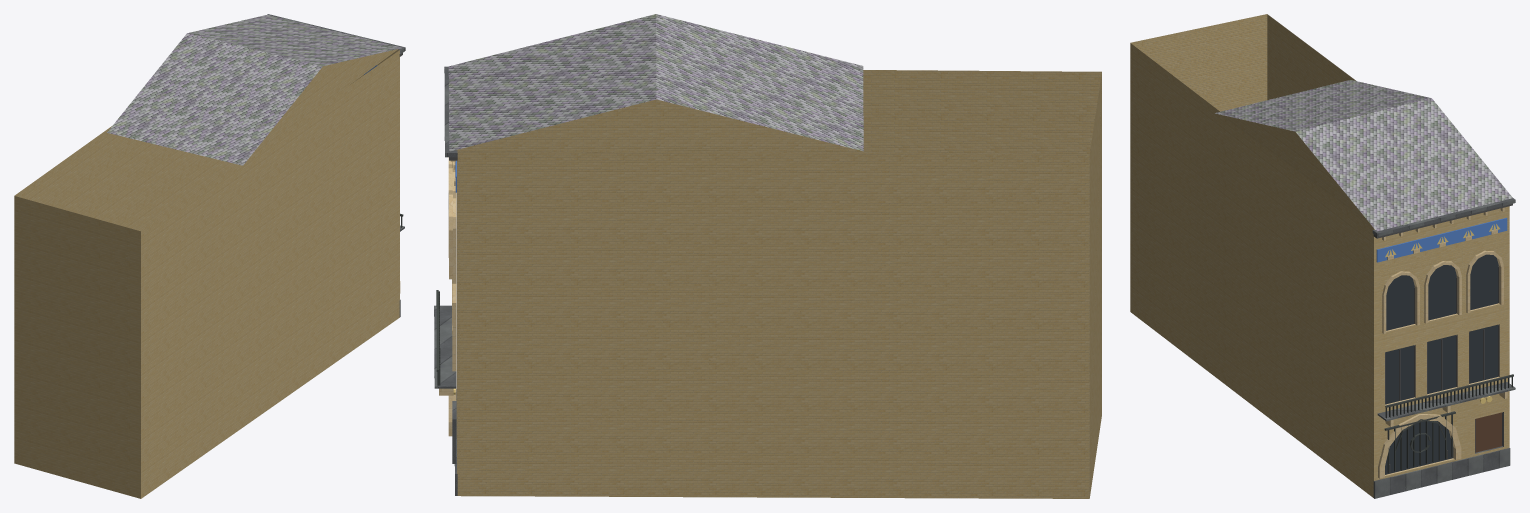
The picture shows the model from 3 angles, left to right: view 1: azimuth 30°, elevation 25°; view 2: azimuth 150°, elevation 25°; view 3: azimuth 270°, elevation 25°; orthographic projection. The views are drawn at different scales.
Visible parts, largest first — view 1: bldg_501637650_landmark; view 2: bldg_501637650_landmark; view 3: bldg_501637650_landmark.
Boxes of the visible parts, <box> form: bldg_501637650_landmark: <box>14,14,405,498</box>; bldg_501637650_landmark: <box>434,14,1101,498</box>; bldg_501637650_landmark: <box>1130,14,1515,498</box>.
Bounding box in the file's own units: 23.23 × 15.2 × 17.14.
Materials: 10 (4 with a texture image).
